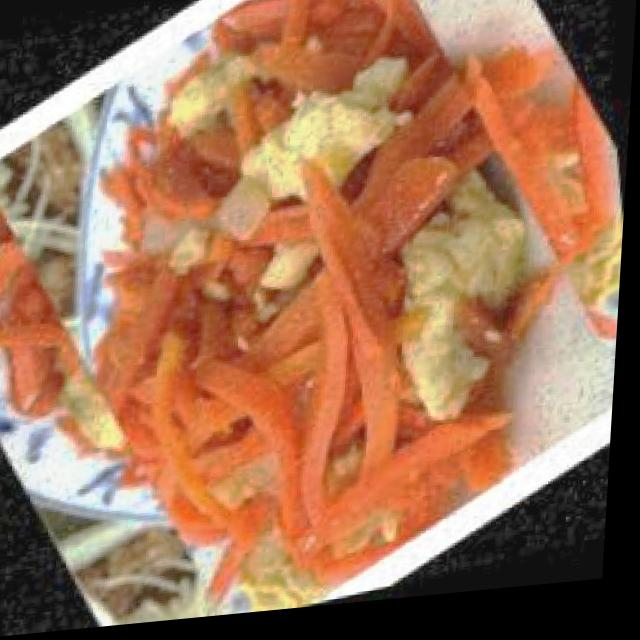carrot_eggs: (58, 0, 623, 615)
